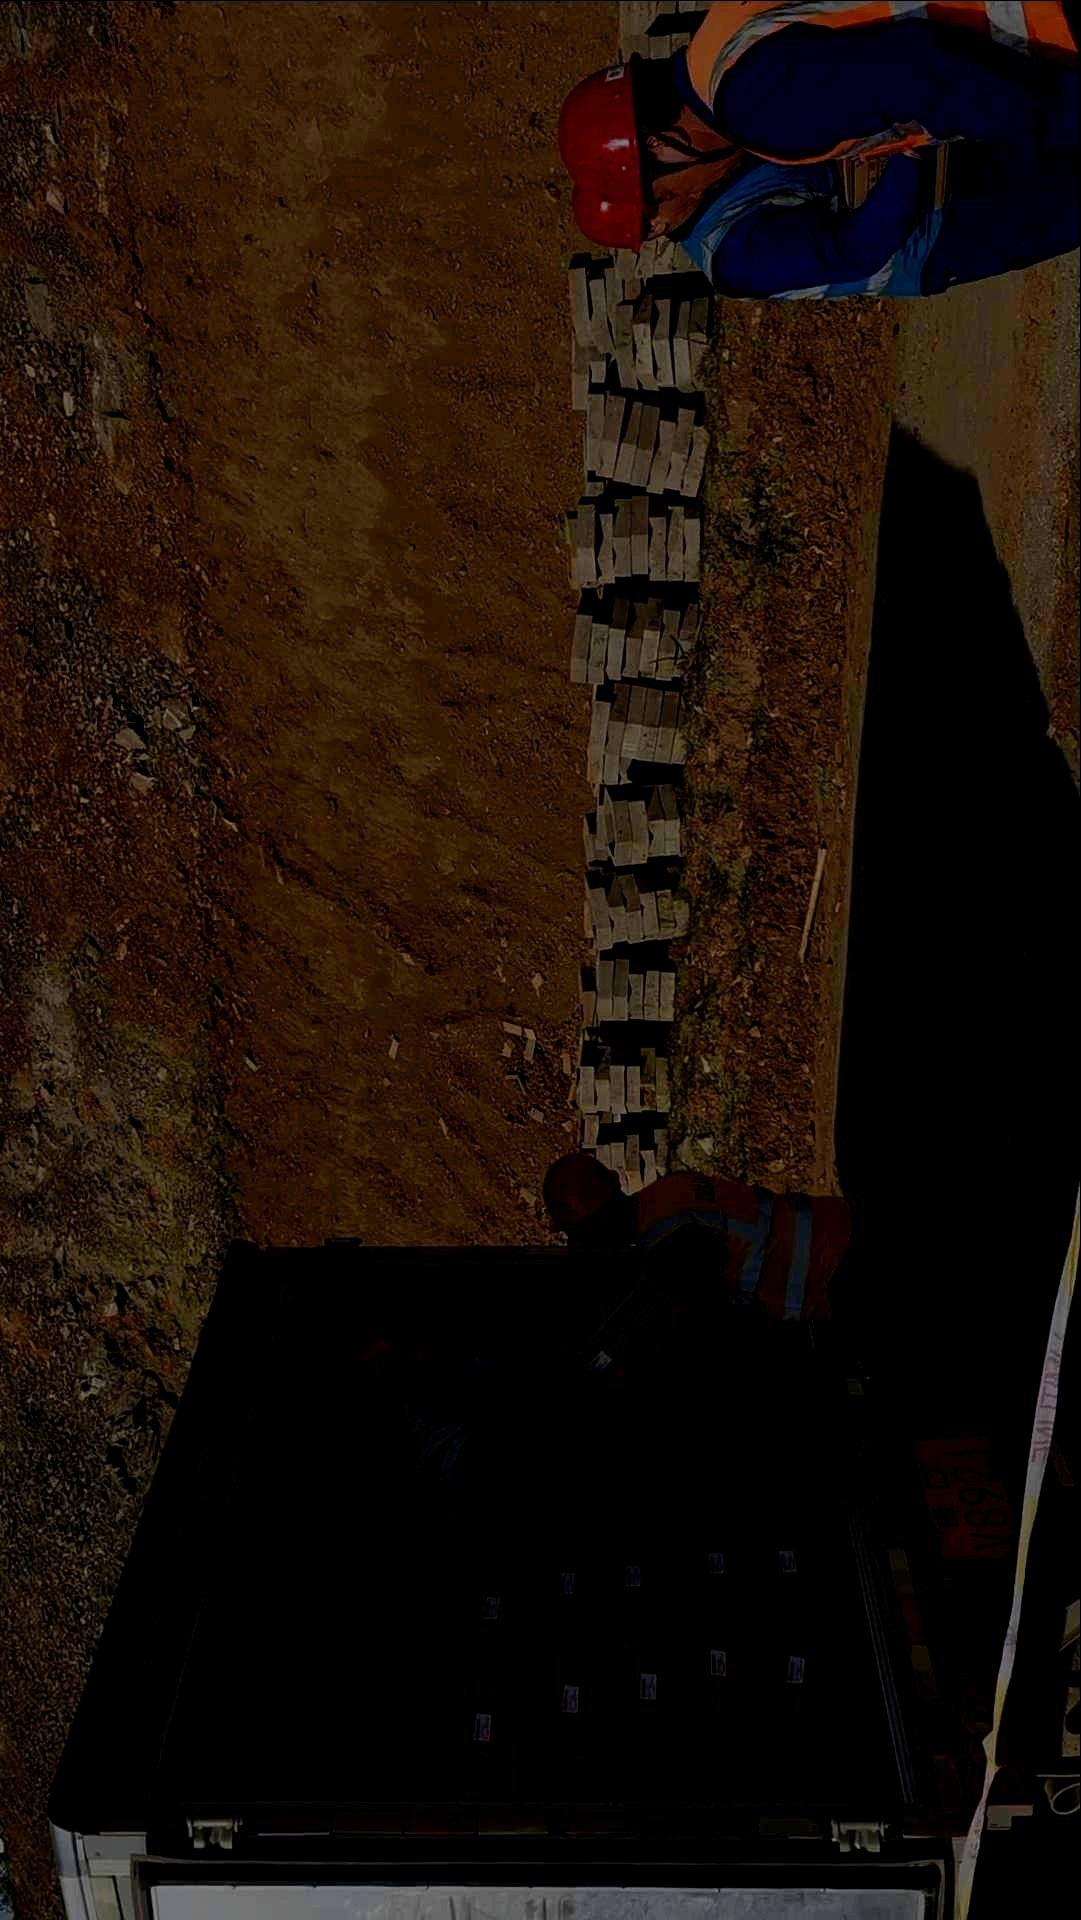helmet: (558, 51, 742, 210), (571, 182, 682, 256)
